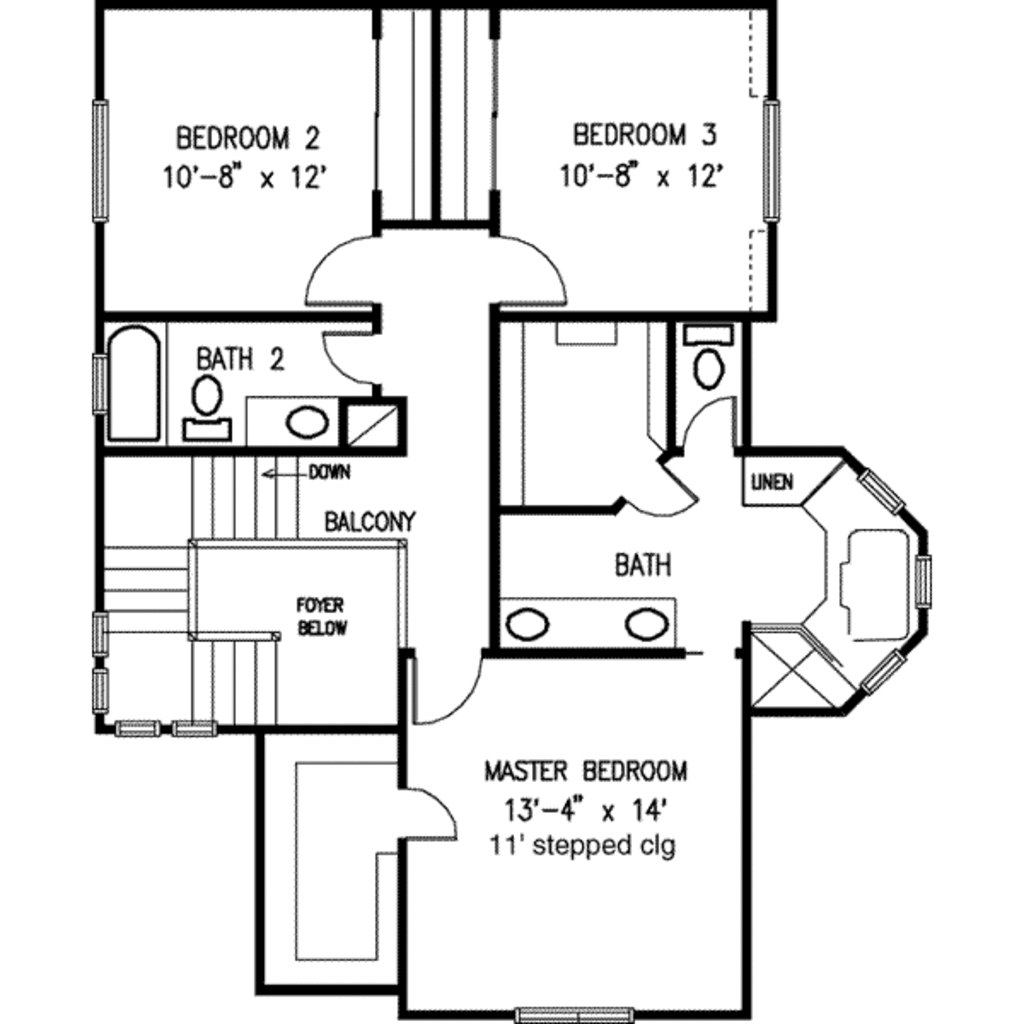door: (300, 232, 383, 316), (406, 646, 489, 727), (616, 458, 703, 532), (491, 232, 572, 309), (387, 776, 460, 846), (314, 330, 397, 390), (683, 393, 738, 457)
large_sink: (184, 365, 235, 444), (678, 330, 735, 387)
small_sink: (489, 593, 678, 649), (246, 385, 341, 457)
stairs: (102, 462, 310, 720)
tub: (102, 324, 173, 451), (838, 524, 908, 643)
window: (746, 87, 795, 230), (851, 636, 908, 700), (89, 103, 114, 230), (495, 1001, 633, 1024), (86, 606, 114, 712), (860, 462, 913, 517), (110, 722, 218, 743), (83, 352, 111, 422), (911, 541, 935, 608)
